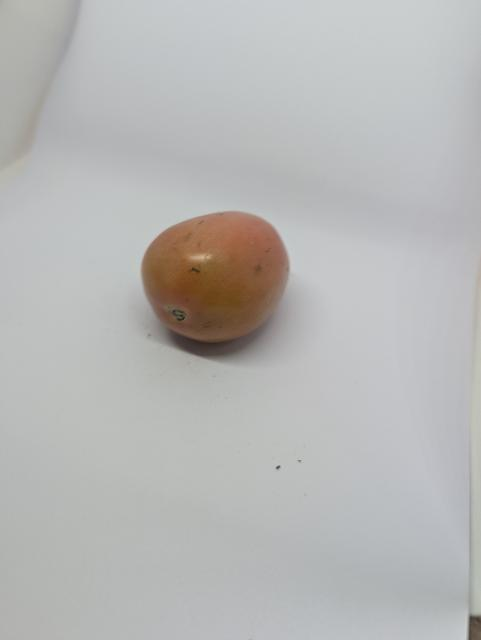turning: (136, 196, 294, 347)
